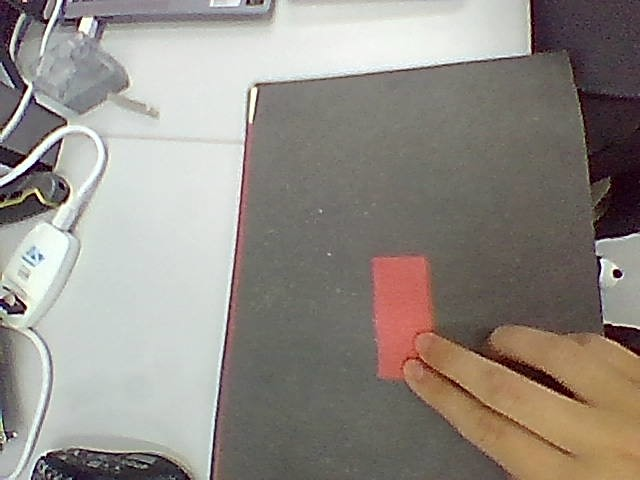card: (372, 256, 432, 379)
